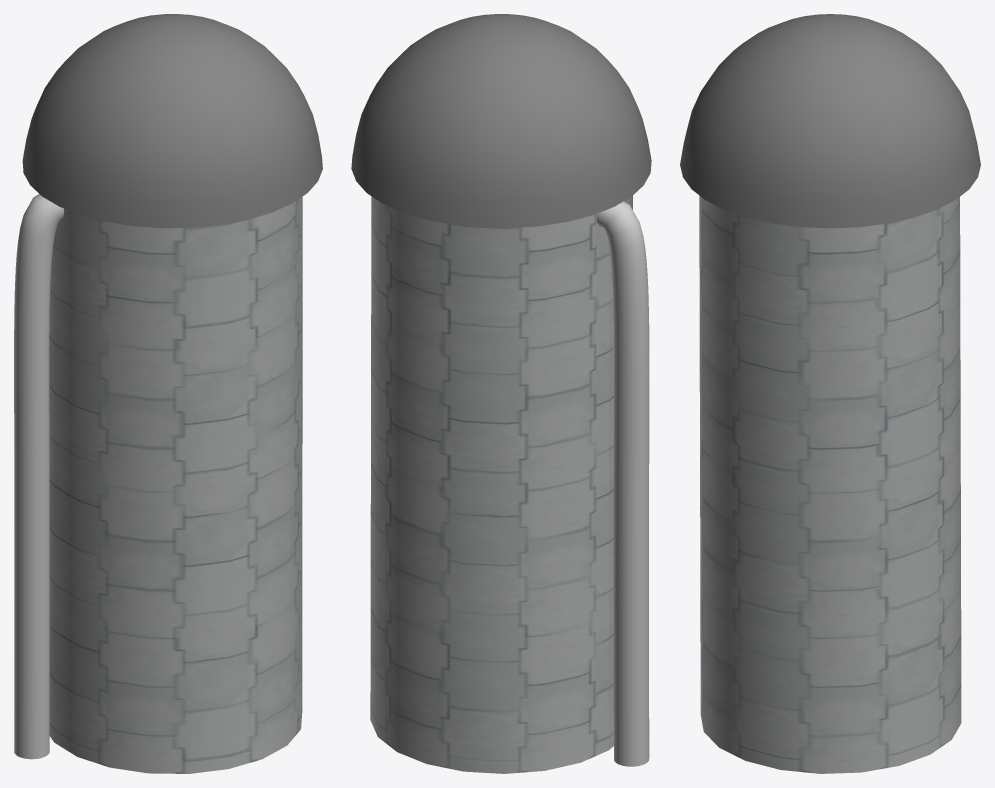
File: silo.fbx
3 views of the same model, side by side, from view 1: azimuth 30°, elevation 25°; view 2: azimuth 150°, elevation 25°; view 3: azimuth 270°, elevation 25° (orthographic).
Visible parts, largest first — view 1: silo, top1, pipe; view 2: silo, top1, pipe; view 3: silo, top1.
Boxes of the visible parts, x1,y1,x2,y2 form: silo: (49, 196, 302, 773); top1: (22, 14, 322, 228); pipe: (14, 194, 64, 759); silo: (370, 196, 632, 773); top1: (351, 14, 651, 228); pipe: (596, 201, 649, 766); silo: (699, 195, 961, 773); top1: (680, 14, 980, 228).
Size of the model in its own units: 2.93 by 6.93 by 2.71.
